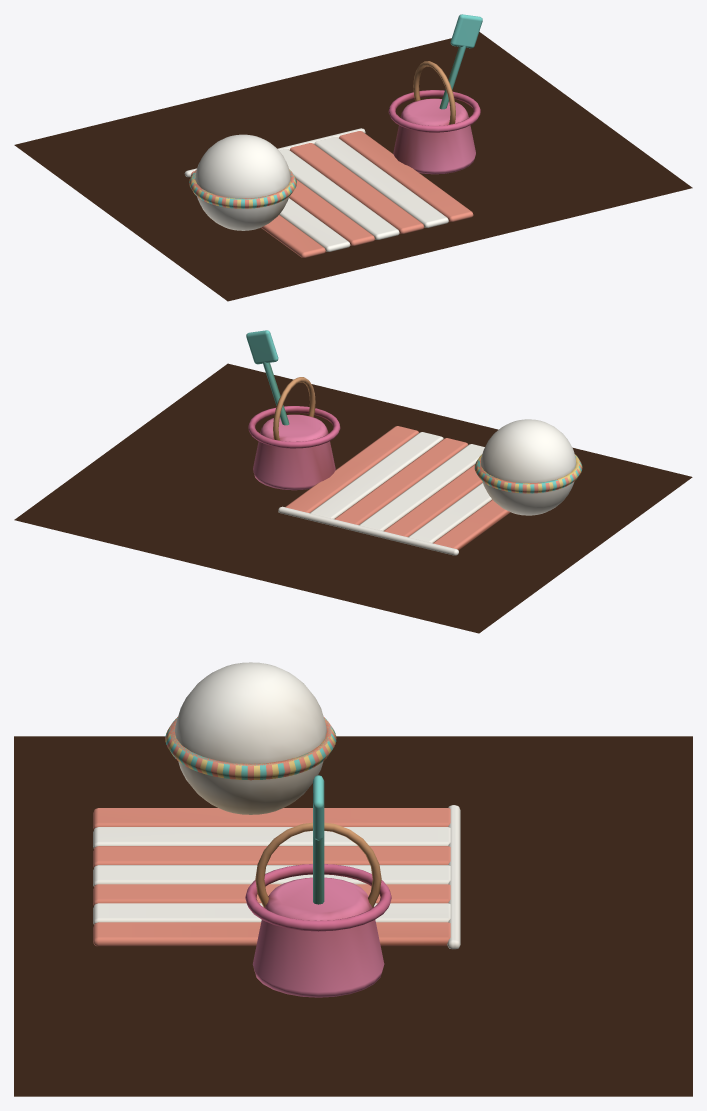
File: prop_beach_set.glb
3 renders of one model, top to bottom at view 1: azimuth 30°, elevation 25°; view 2: azimuth 150°, elevation 25°; view 3: azimuth 270°, elevation 25°, orthographic. The views are drawn at different scales.
Parts seen in each view (by area): view 1: baked_shadow, ball, bucket, towel5, towel4, towel6, towel3, towel2, towel1, bucket_rim, towel0, shovel_b (+4 smaller); view 2: baked_shadow, ball, bucket, towel5, towel4, towel6, towel3, towel2, towel1, towel0, towel_edge, bucket_rim (+5 smaller); view 3: baked_shadow, ball, bucket, towel2, towel0, towel1, towel6, towel3, towel5, towel4, bucket_rim, bucket_handle (+6 smaller).
Boxes of the visible parts, <box> form: baked_shadow: <box>14,32,692,301</box>; ball: <box>195,134,290,230</box>; bucket: <box>393,98,475,174</box>; towel5: <box>314,137,448,227</box>; towel4: <box>290,143,424,233</box>; towel6: <box>339,131,473,221</box>; towel3: <box>279,149,399,239</box>; towel2: <box>289,180,374,245</box>; towel1: <box>279,198,350,251</box>; bucket_rim: <box>388,90,480,132</box>; towel0: <box>191,171,325,257</box>; shovel_b: <box>450,14,482,48</box>; baked_shadow: <box>14,363,692,633</box>; ball: <box>480,419,576,515</box>; bucket: <box>253,414,335,490</box>; towel5: <box>310,432,443,518</box>; towel4: <box>334,438,468,524</box>; towel6: <box>285,426,418,512</box>; towel3: <box>359,444,484,530</box>; towel2: <box>384,464,482,536</box>; towel1: <box>408,482,492,542</box>; towel0: <box>433,499,510,550</box>; towel_edge: <box>278,506,458,555</box>; bucket_rim: <box>248,406,340,448</box>; baked_shadow: <box>14,736,692,1096</box>; ball: <box>175,662,326,814</box>; bucket: <box>252,877,384,997</box>; towel2: <box>93,846,450,867</box>; towel0: <box>93,808,450,829</box>; towel1: <box>93,827,450,848</box>; towel6: <box>93,922,450,946</box>; towel3: <box>93,865,450,886</box>; towel5: <box>93,903,450,924</box>; towel4: <box>93,884,450,905</box>; bucket_rim: <box>245,864,391,931</box>; bucket_handle: <box>255,822,381,907</box>.
Size of the model in its own units: 3.78 by 1.07 by 3.01.
8 materials, 1 textured.
